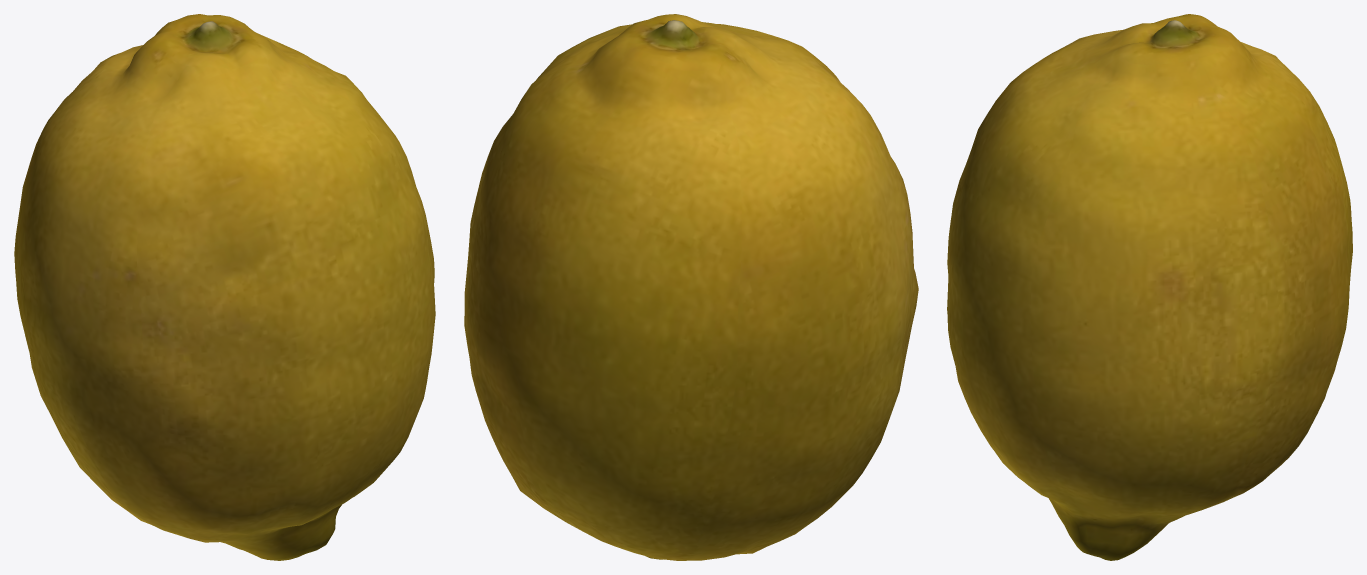
The model's file is lemon.glb.
3 views of the same model, side by side, from view 1: azimuth 30°, elevation 25°; view 2: azimuth 150°, elevation 25°; view 3: azimuth 270°, elevation 25° (orthographic). The views are drawn at different scales.
Visible parts, largest first — view 1: lemon1_0; view 2: lemon1_0; view 3: lemon1_0.
Boxes of the visible parts, <box> form: lemon1_0: <box>14,14,435,560</box>; lemon1_0: <box>464,14,918,560</box>; lemon1_0: <box>947,14,1352,560</box>.
Bounding box in the file's own units: 0.0687 × 0.0954 × 0.0683.
Materials: 1 (1 with a texture image).
